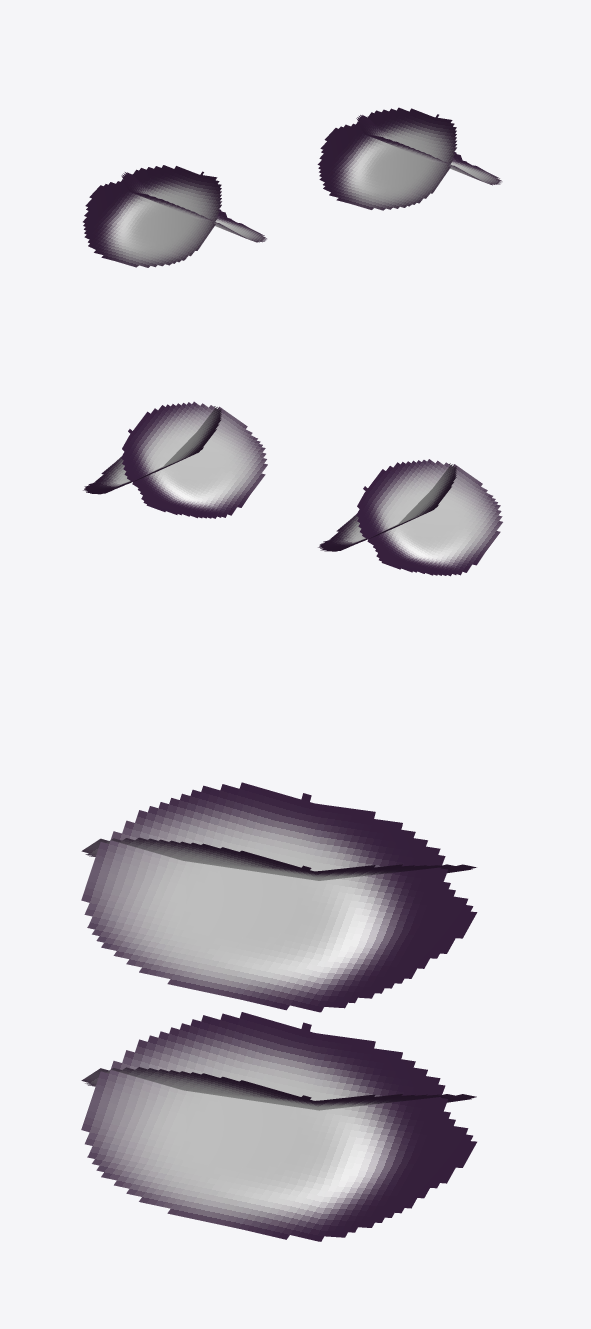
The picture shows the model from 3 angles, top to bottom: view 1: azimuth 30°, elevation 25°; view 2: azimuth 150°, elevation 25°; view 3: azimuth 270°, elevation 25°; orthographic projection. The views are drawn at different scales.
Visible parts, largest first — view 1: lostsoul.model_eyemesh-MeshSets[mesh_eyeL].Mesh[0] (×2), lostsoul.model_eyemesh-MeshSets[mesh_eyeR].Mesh[0] (×2); view 2: lostsoul.model_eyemesh-MeshSets[mesh_eyeL].Mesh[0] (×2), lostsoul.model_eyemesh-MeshSets[mesh_eyeR].Mesh[0] (×2); view 3: lostsoul.model_eyemesh-MeshSets[mesh_eyeR].Mesh[0] (×2), lostsoul.model_eyemesh-MeshSets[mesh_eyeL].Mesh[0] (×2).
Boxes of the visible parts, <box> form: lostsoul.model_eyemesh-MeshSets[mesh_eyeL].Mesh[0] (×2): <box>83,107,456,267</box>; lostsoul.model_eyemesh-MeshSets[mesh_eyeR].Mesh[0] (×2): <box>121,115,502,242</box>; lostsoul.model_eyemesh-MeshSets[mesh_eyeL].Mesh[0] (×2): <box>121,401,502,576</box>; lostsoul.model_eyemesh-MeshSets[mesh_eyeR].Mesh[0] (×2): <box>83,406,456,551</box>; lostsoul.model_eyemesh-MeshSets[mesh_eyeR].Mesh[0] (×2): <box>81,782,477,1241</box>; lostsoul.model_eyemesh-MeshSets[mesh_eyeL].Mesh[0] (×2): <box>81,837,476,1110</box>.
Size of the model in its own units: 0.5843 by 0.1457 by 0.2842.
1 material, 1 textured.
